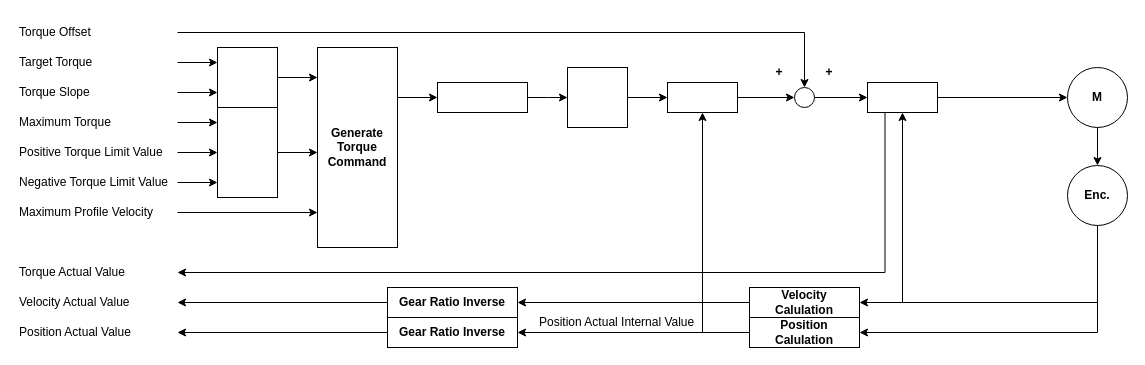
This 1145x365 diagram has some shape labels left out. The shapes that lost their labels are listed below. From the top down, each one's centre as x and y in pixels, then its label:
At pixel 482 97: "Gear Ratio".
At pixel 702 97: "Velocity Control".
At pixel 902 97: "Torque Control".
